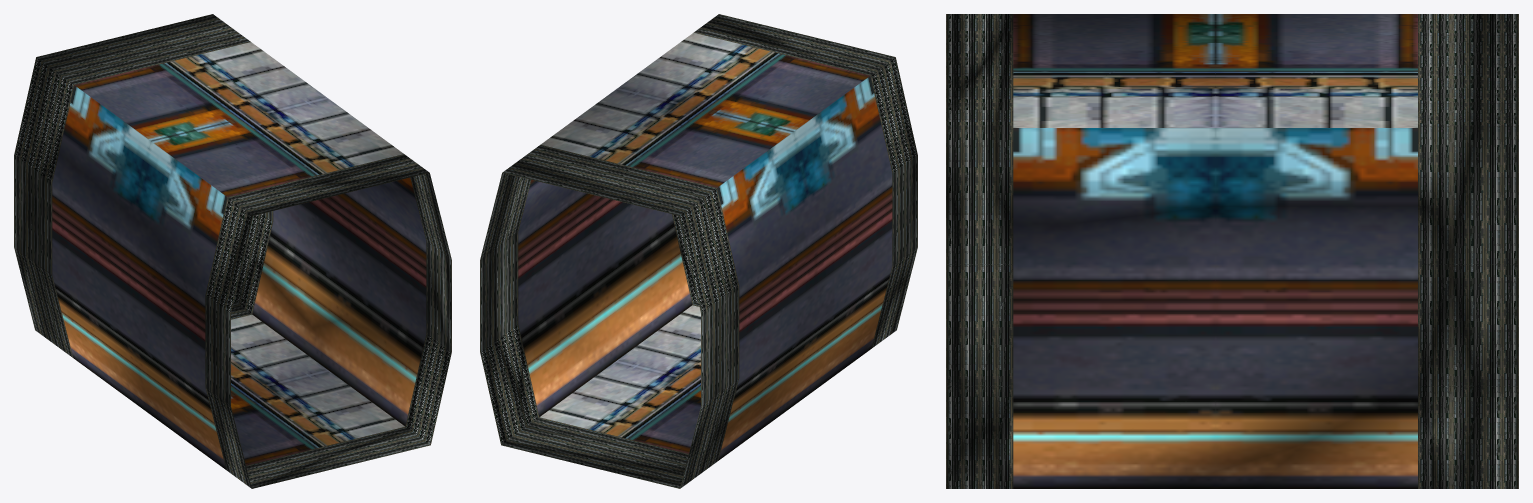
File: GateHallway.fbx
The picture shows the model from 3 angles, left to right: view 1: azimuth 30°, elevation 25°; view 2: azimuth 150°, elevation 25°; view 3: azimuth 270°, elevation 25°; orthographic projection. The views are drawn at different scales.
Parts seen in each view (by area): view 1: map_cave01_02n.001; view 2: map_cave01_02n.001; view 3: map_cave01_02n.001.
Boxes of the visible parts, bbox=[...] form: map_cave01_02n.001: bbox=[14, 14, 451, 488]; map_cave01_02n.001: bbox=[480, 14, 917, 488]; map_cave01_02n.001: bbox=[946, 14, 1518, 488].
Bounding box in the file's own units: 50 × 59 × 85.
